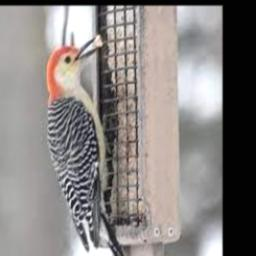Woodpecker: (47, 36, 131, 256)
